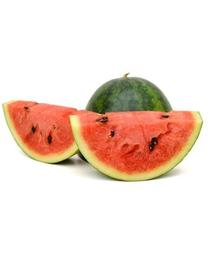watermelon: (2, 96, 202, 179)
